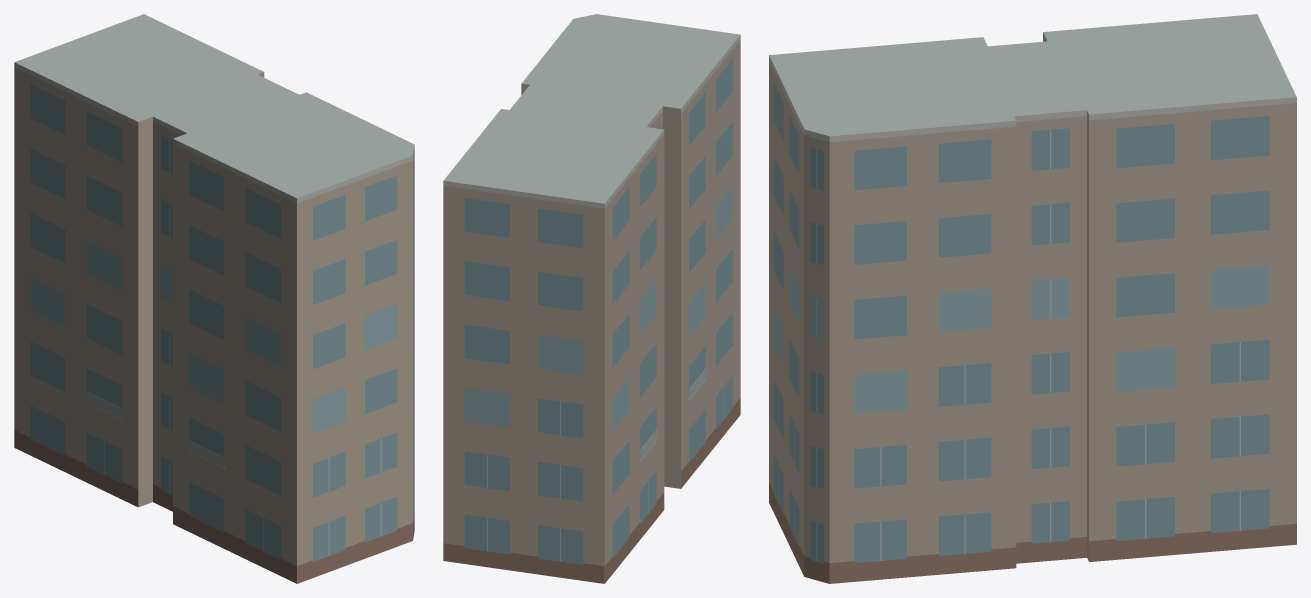
Rendered from survey-upis-32928183.glb.
3 views of the same model, side by side, from view 1: azimuth 30°, elevation 25°; view 2: azimuth 150°, elevation 25°; view 3: azimuth 270°, elevation 25° (orthographic). The views are drawn at different scales.
Visible parts, largest first — view 1: survey-upis-32928183.tmp; view 2: survey-upis-32928183.tmp; view 3: survey-upis-32928183.tmp.
Part boxes in pixels (box(x1,y1,x2,y2)): survey-upis-32928183.tmp: box(14, 14, 414, 583); survey-upis-32928183.tmp: box(443, 14, 740, 583); survey-upis-32928183.tmp: box(769, 14, 1296, 583).
Size of the model in its own units: 10.98 by 18.7 by 20.
